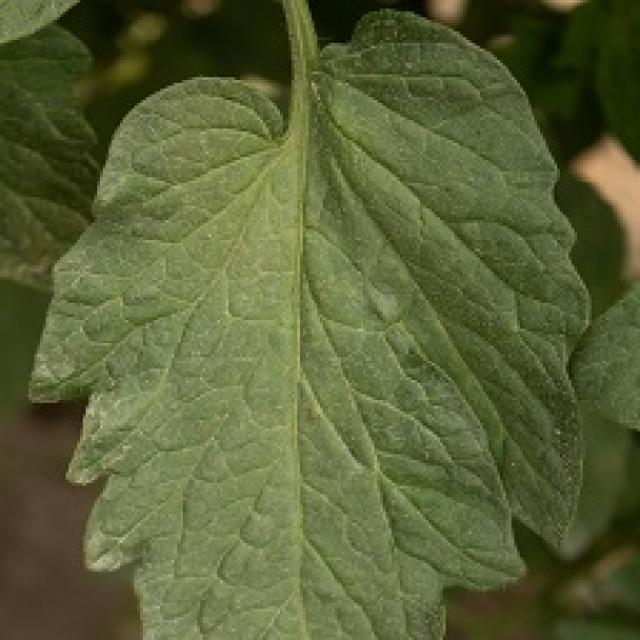Healthy: (31, 0, 586, 637)
